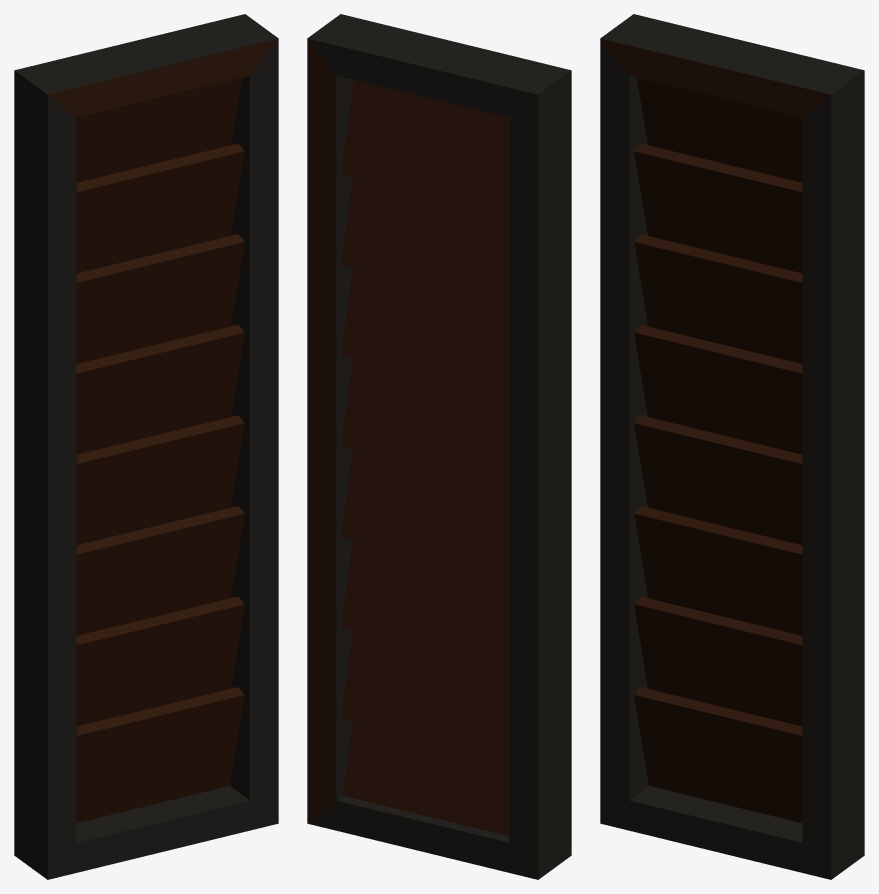
File: Window-Shutter-L.FBX
3 views of the same model, side by side, from view 1: azimuth 30°, elevation 25°; view 2: azimuth 150°, elevation 25°; view 3: azimuth 330°, elevation 25° (orthographic).
Parts seen in each view (by area): view 1: Window-Shutter-L; view 2: Window-Shutter-L; view 3: Window-Shutter-L.
Boxes of the visible parts, left/top/right/bottom form: Window-Shutter-L: left=14, top=14, right=278, bottom=879; Window-Shutter-L: left=307, top=14, right=571, bottom=879; Window-Shutter-L: left=600, top=14, right=864, bottom=879.
Bounding box in the file's own units: 4 × 13 × 1.
